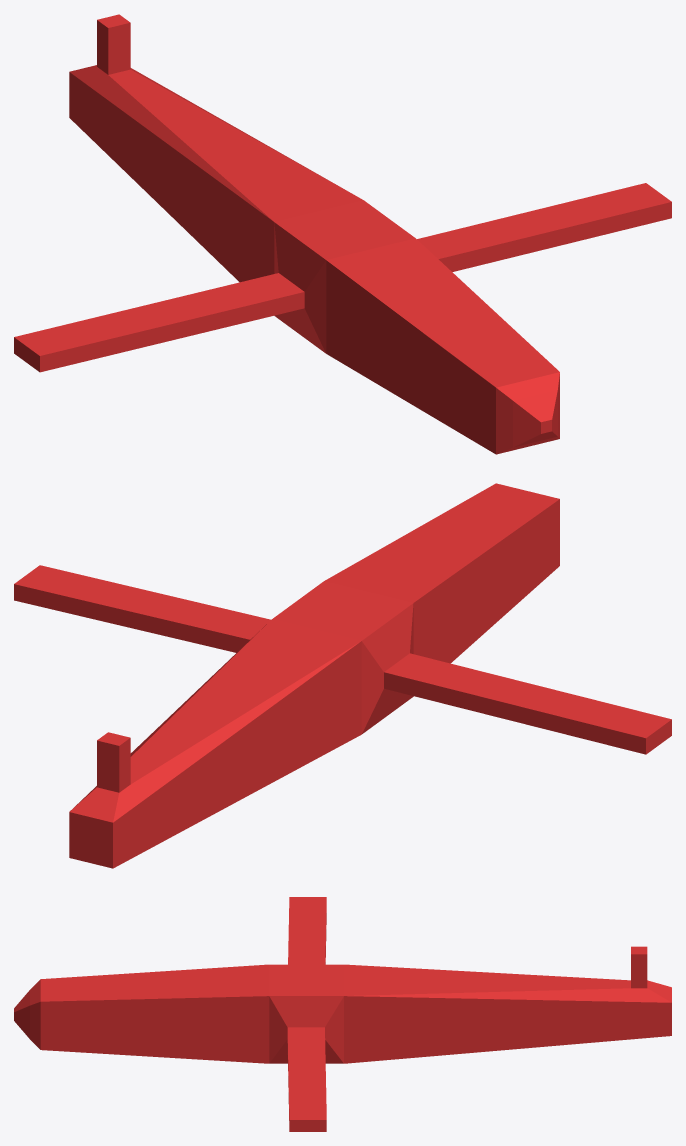
3 views of the same model, one above another, from view 1: azimuth 30°, elevation 25°; view 2: azimuth 150°, elevation 25°; view 3: azimuth 270°, elevation 25° (orthographic). The views are drawn at different scales.
Parts seen in each view (by area): view 1: Cube; view 2: Cube; view 3: Cube.
Boxes of the visible parts, <box> form: Cube: <box>14,14,671,454</box>; Cube: <box>14,483,671,868</box>; Cube: <box>14,897,671,1131</box>.
Size of the model in its own units: 494 by 100 by 616.
